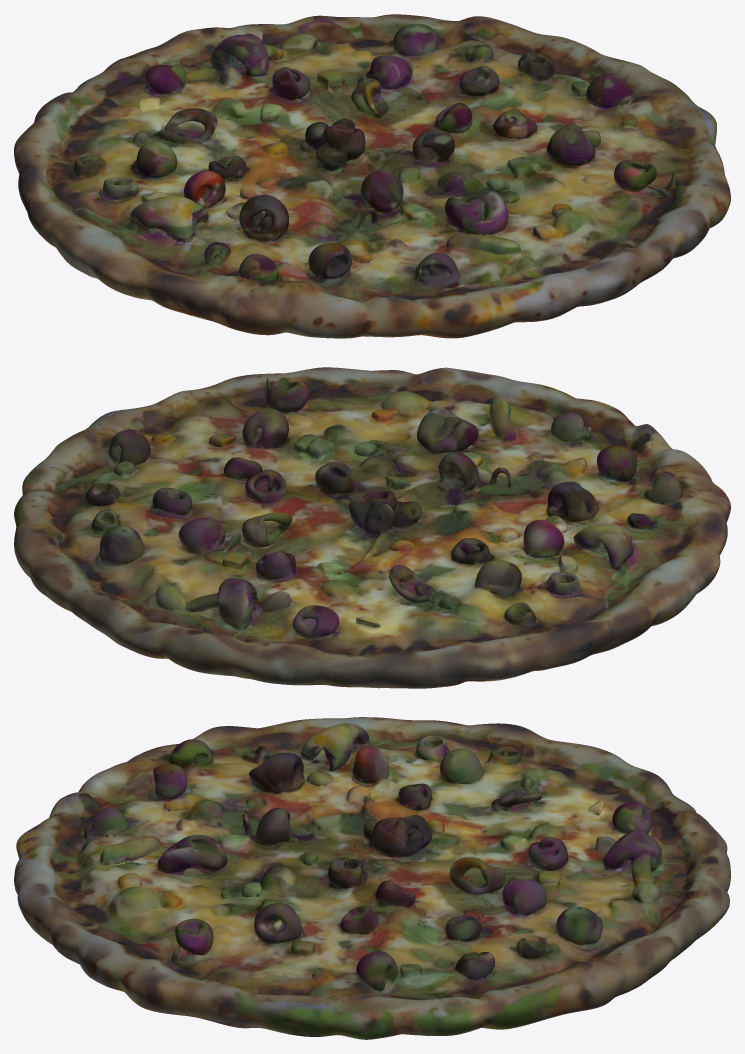
The model's file is Deluxe_Veggie_Pizza.glb.
3 renders of one model, top to bottom at view 1: azimuth 30°, elevation 25°; view 2: azimuth 150°, elevation 25°; view 3: azimuth 270°, elevation 25°, orthographic.
Bounding box in the file's own units: 1.99 × 0.2221 × 2.
Materials: 1 (1 with a texture image).
